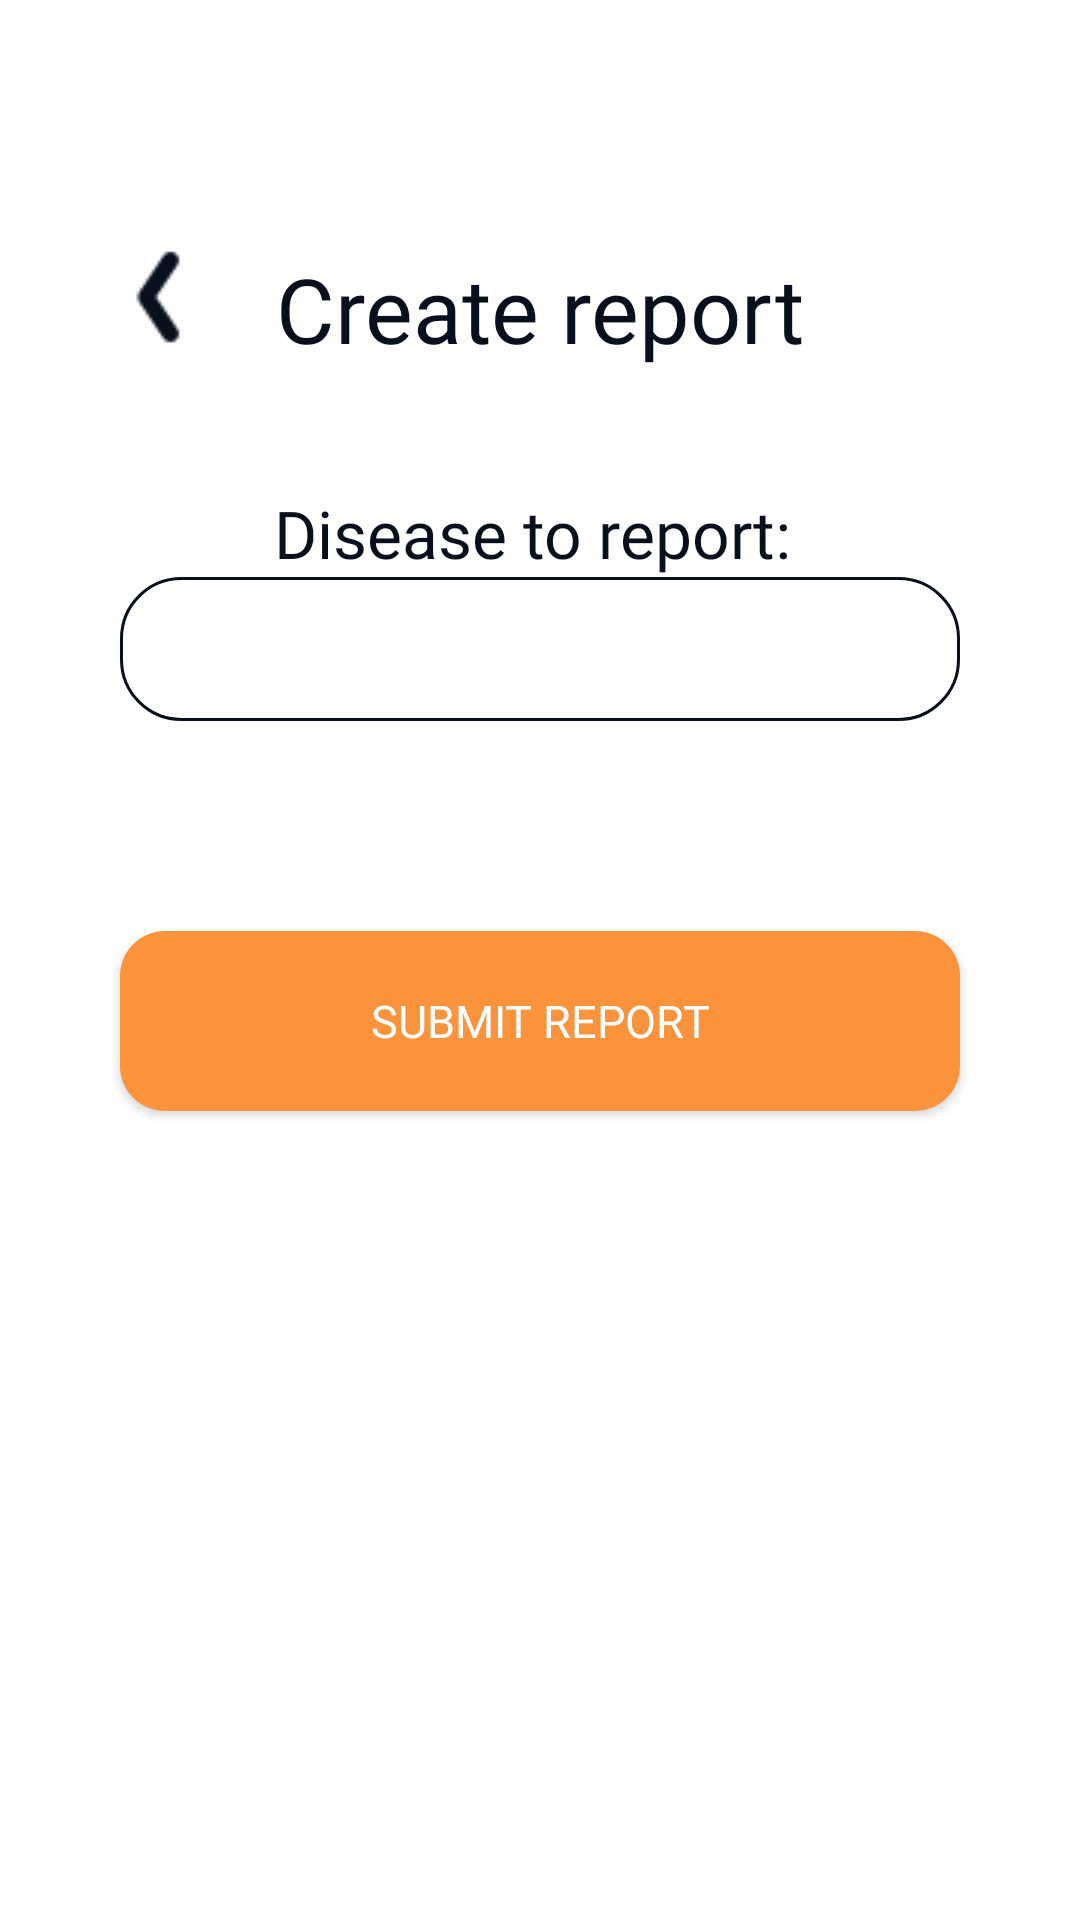

Named icons in this screenshot (1080px x 1920px) and their bounding boxes, bbox=(x1, y1, x2, y2):
Chevron: bbox=(136, 251, 180, 343)
